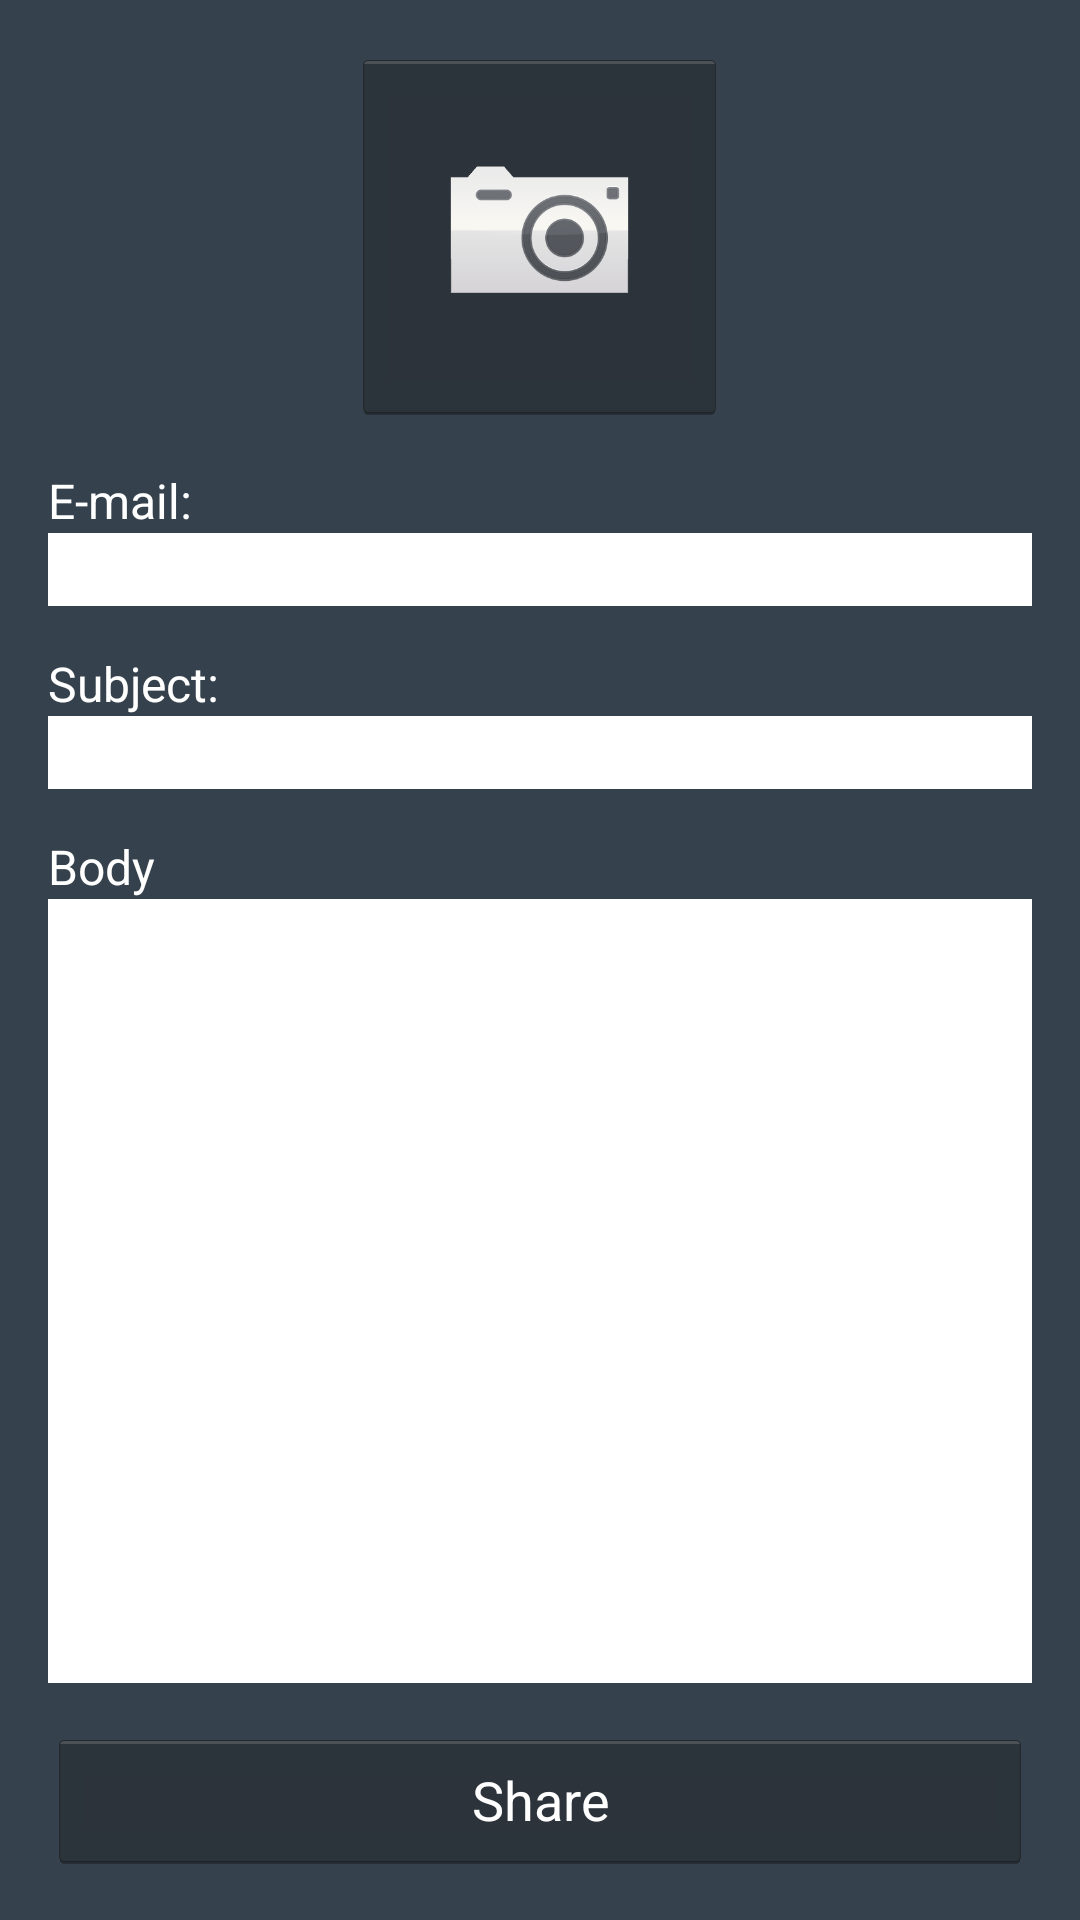

Named icons in this screenshot (1080w x 1920h) and their bounding boxes, (x1, y1, x2, y2):
camera: (363, 60, 716, 415)
